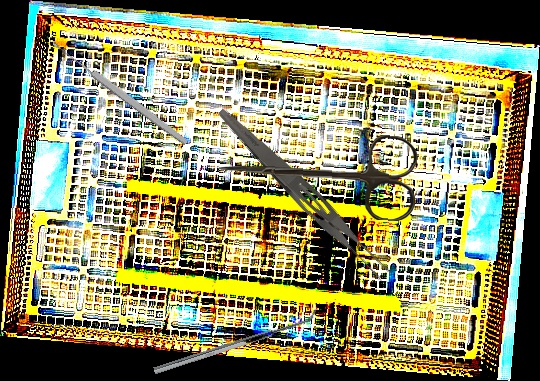Dressing Forceps: (208, 104, 397, 286)
Iris Scissors: (217, 129, 418, 222)
Spatula Surgical: (151, 307, 319, 375)
Surgical Spoon: (50, 39, 190, 147)
